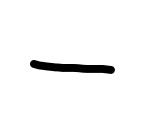minus: (29, 59, 115, 74)
